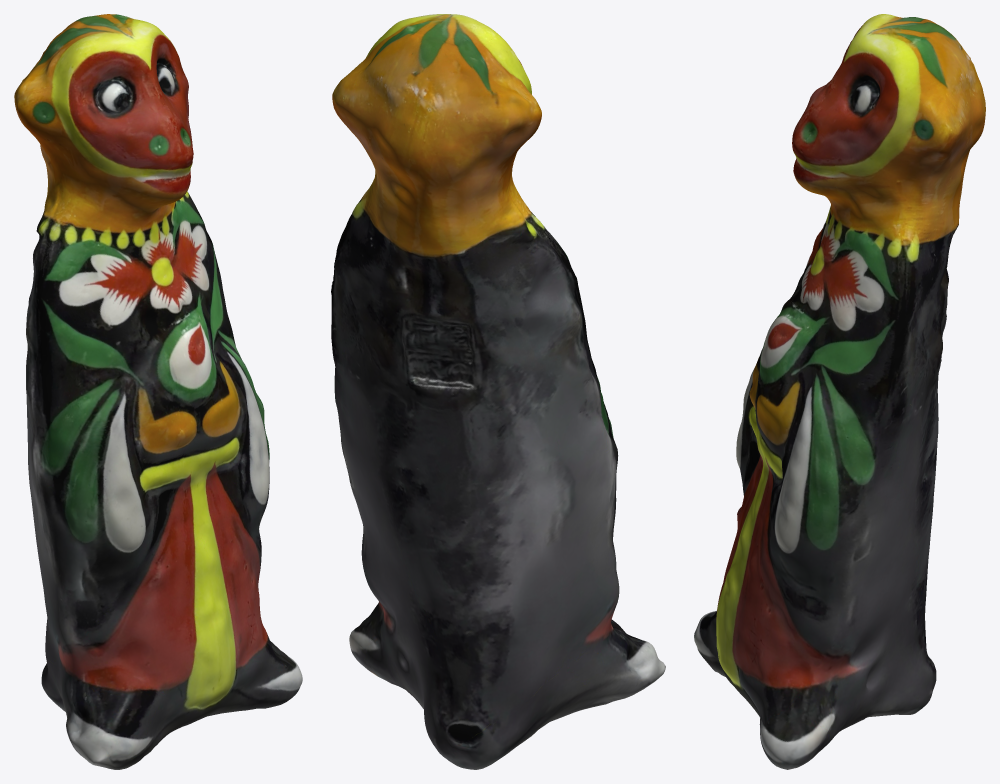
The picture shows the model from 3 angles, left to right: view 1: azimuth 30°, elevation 25°; view 2: azimuth 150°, elevation 25°; view 3: azimuth 270°, elevation 25°; orthographic projection. The views are drawn at different scales.
Size of the model in its own units: 0.3797 by 0.9766 by 0.37.
1 material, 1 textured.
